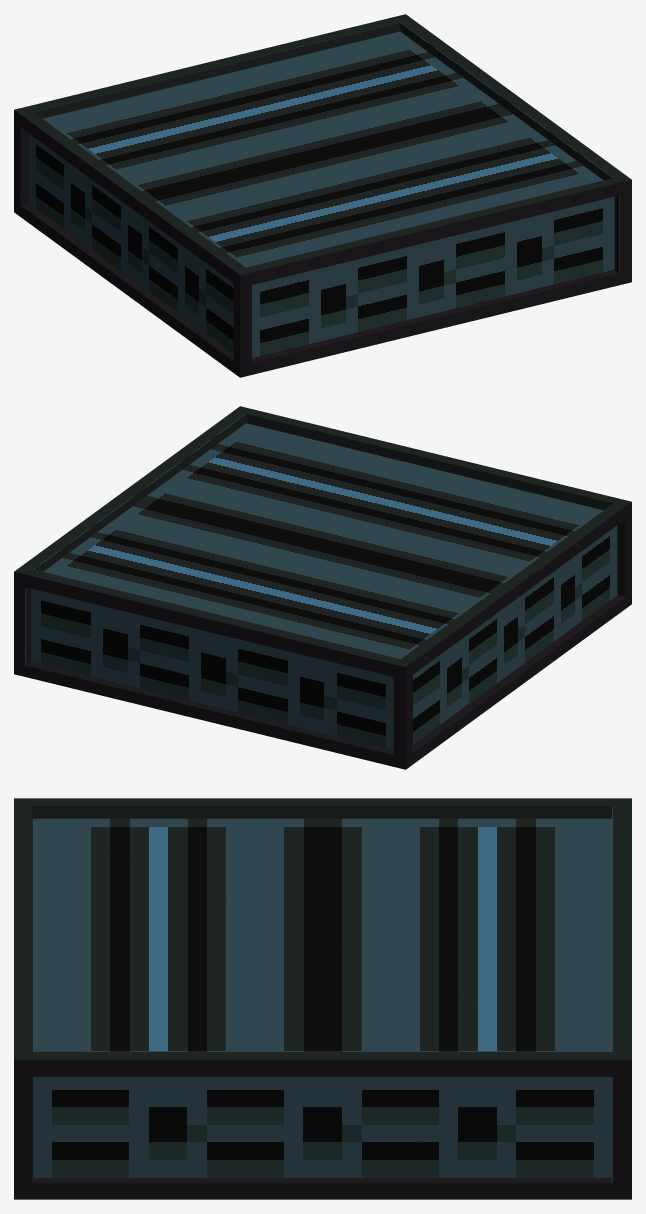
Rendered from Floor_Grate_02.glb.
The picture shows the model from 3 angles, top to bottom: view 1: azimuth 30°, elevation 25°; view 2: azimuth 150°, elevation 25°; view 3: azimuth 270°, elevation 25°; orthographic projection. The views are drawn at different scales.
Parts seen in each view (by area): view 1: Floor_Grate_02; view 2: Floor_Grate_02; view 3: Floor_Grate_02.
Part boxes in pixels (x1=…): Floor_Grate_02: x1=14, y1=14, x2=631, y2=377; Floor_Grate_02: x1=14, y1=406, x2=631, y2=769; Floor_Grate_02: x1=14, y1=798, x2=631, y2=1199.
Size of the model in its own units: 1 by 0.25 by 1.
Materials: 1 (1 with a texture image).
